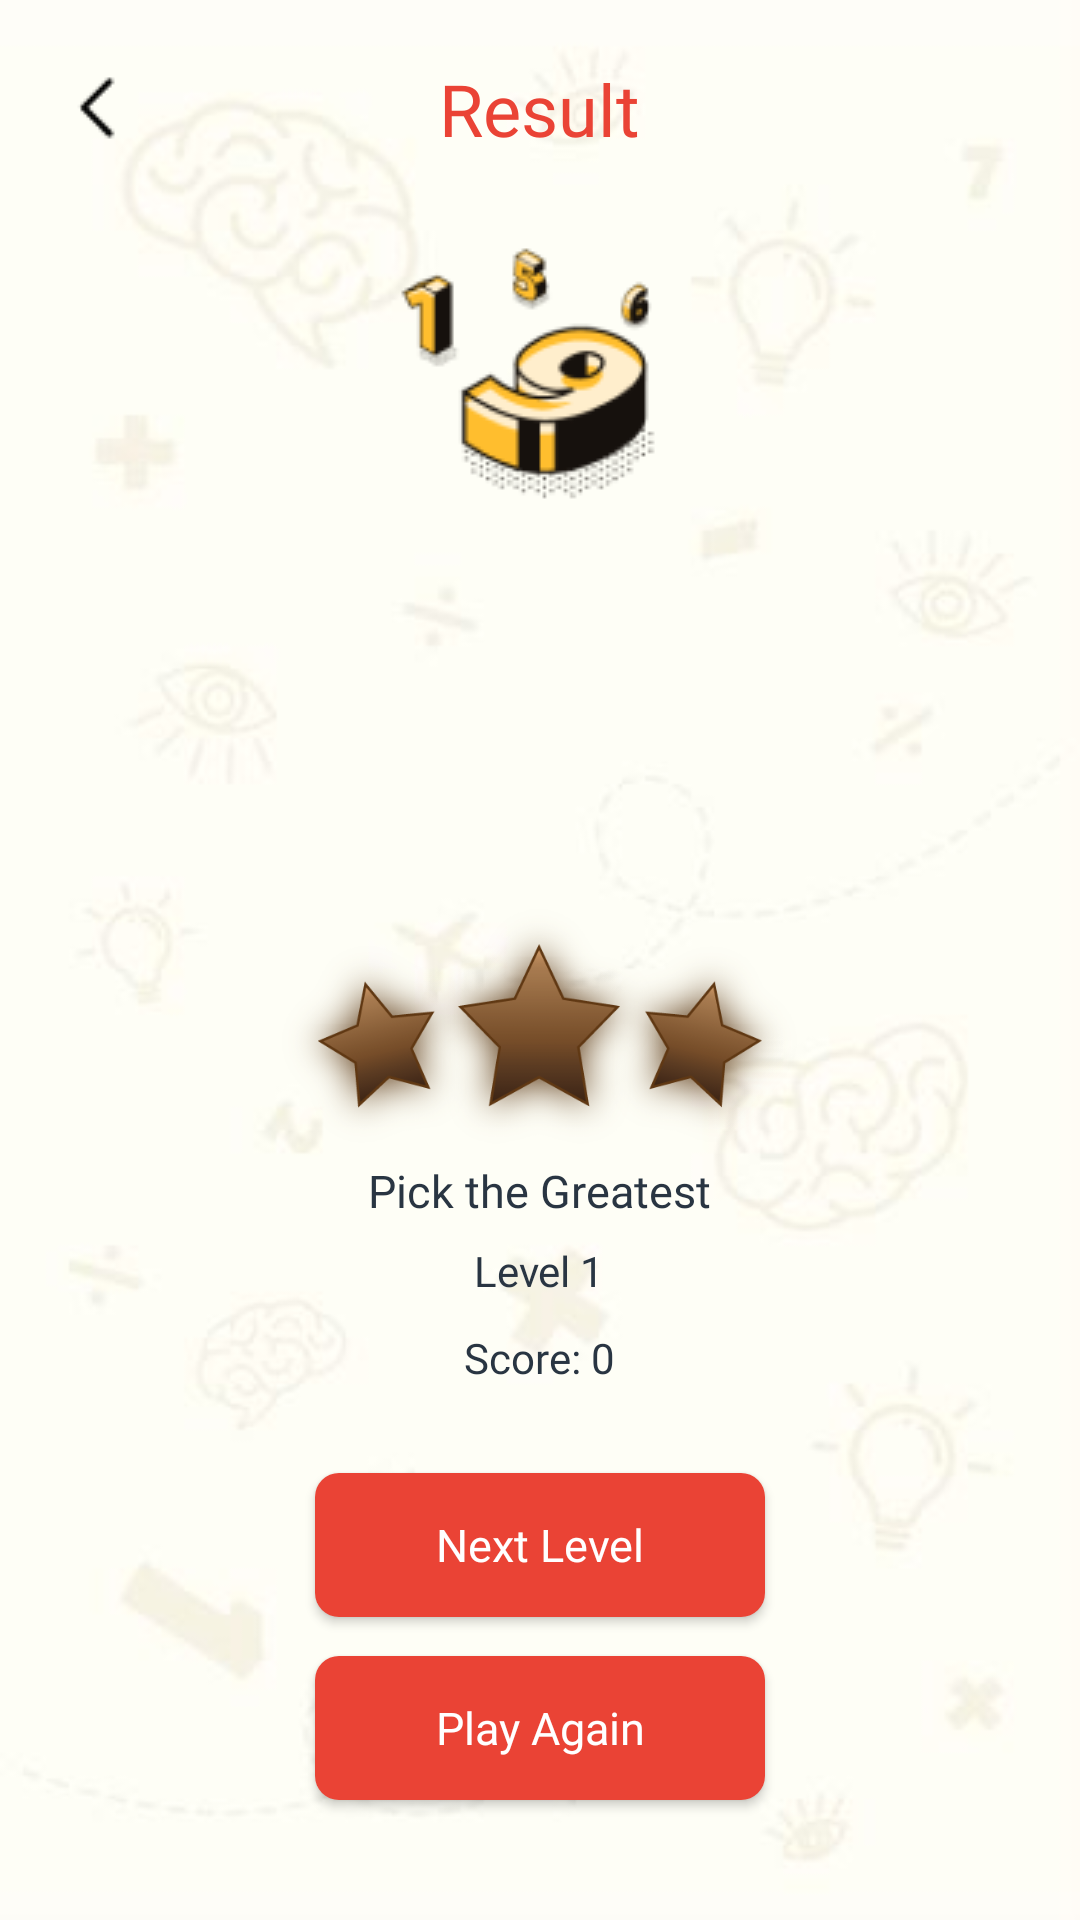

Icons on this 1080 x 1920 Android screen, each with the point to tap as (x,y):
back: (97,108)
